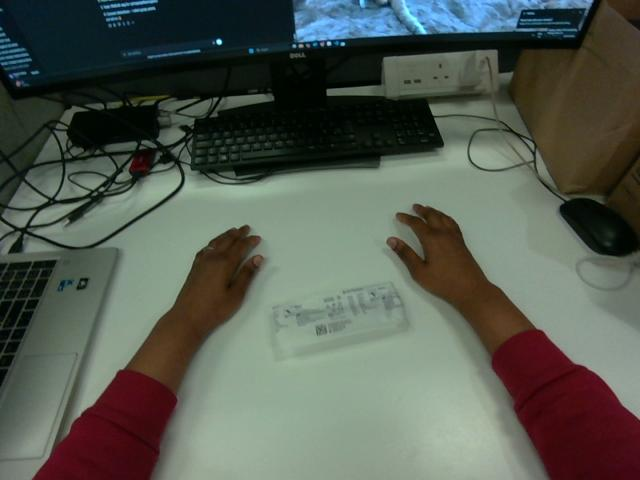syringe: (270, 282, 408, 358)
